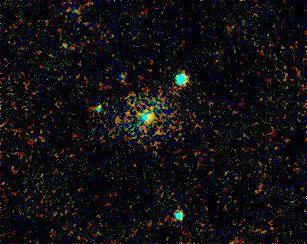star: (50, 33, 80, 63)
